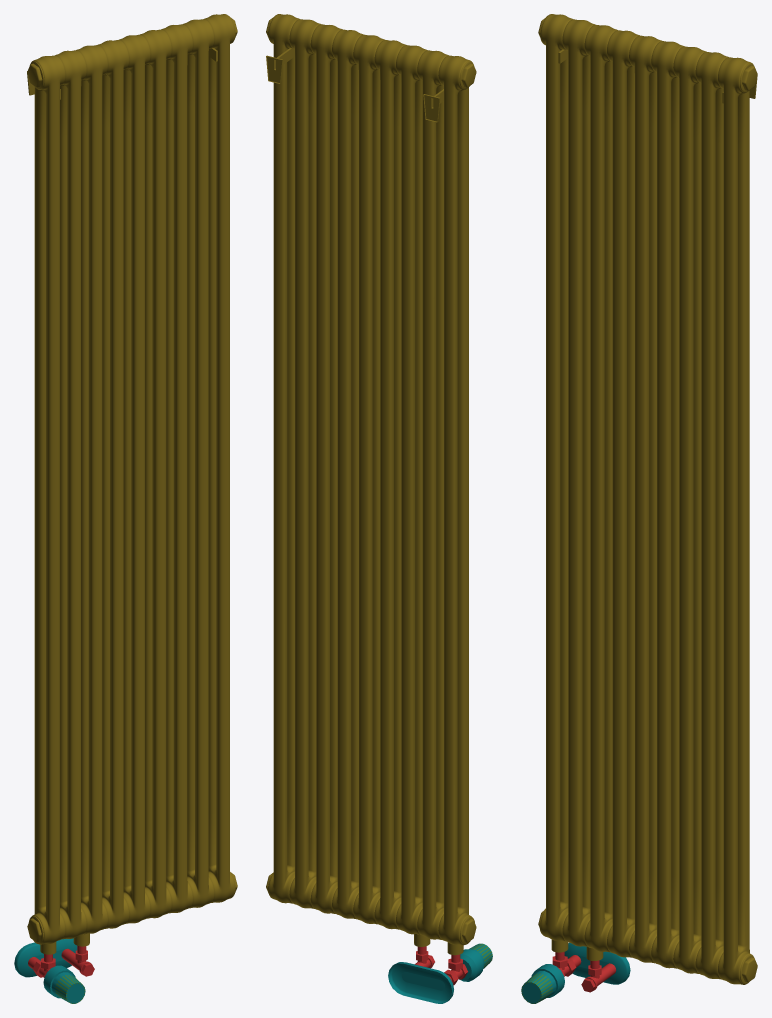
File: SM_Heater_004.fbx
3 views of the same model, side by side, from view 1: azimuth 30°, elevation 25°; view 2: azimuth 150°, elevation 25°; view 3: azimuth 330°, elevation 25° (orthographic). The views are drawn at different scales.
Visible parts, largest first — view 1: SM_Heater_004; view 2: SM_Heater_004; view 3: SM_Heater_004.
Boxes of the visible parts, bbox=[...] form: SM_Heater_004: bbox=[14, 14, 237, 1003]; SM_Heater_004: bbox=[266, 14, 492, 1003]; SM_Heater_004: bbox=[521, 14, 757, 1003].
Bounding box in the file's own units: 42.24 × 189 × 16.95.
